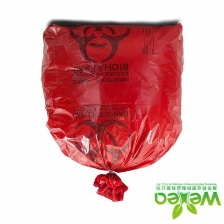plastic_bag: (25, 13, 197, 207)
